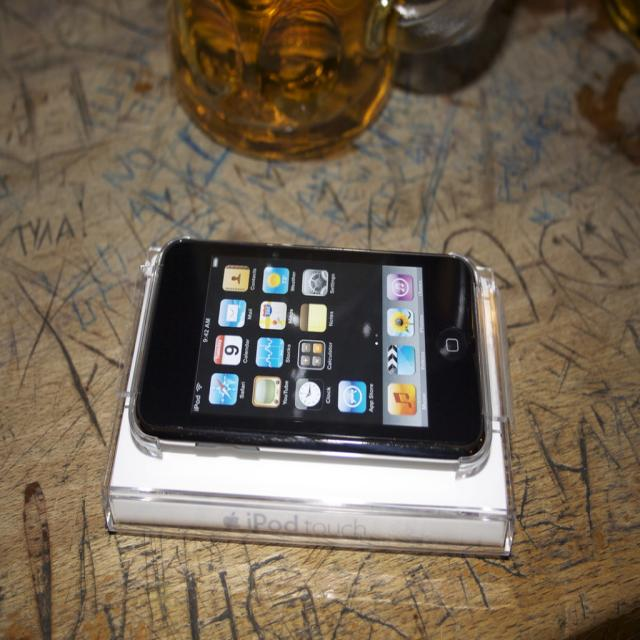Mobile-phone: (132, 221, 512, 512)
